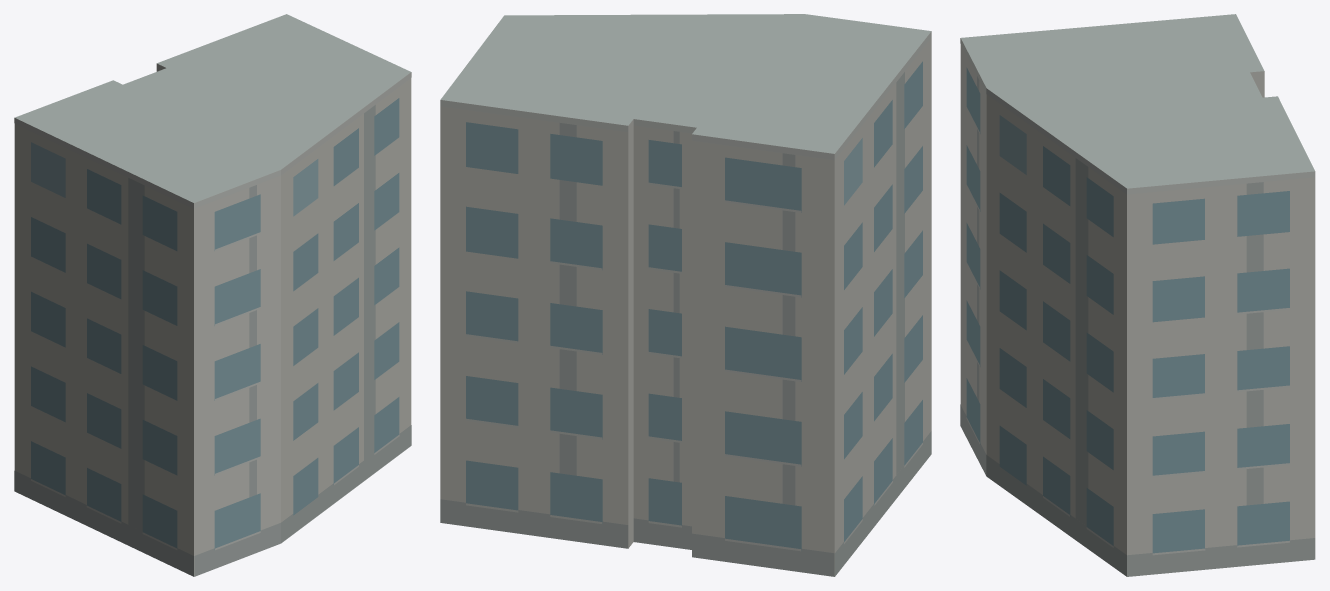
Rendered from survey-upis-32708964.glb.
The picture shows the model from 3 angles, left to right: view 1: azimuth 30°, elevation 25°; view 2: azimuth 150°, elevation 25°; view 3: azimuth 270°, elevation 25°; orthographic projection. The views are drawn at different scales.
Parts seen in each view (by area): view 1: survey-upis-32708964.tmp; view 2: survey-upis-32708964.tmp; view 3: survey-upis-32708964.tmp.
Part boxes in pixels (left/top/right/bottom): survey-upis-32708964.tmp: left=14, top=14, right=411, bottom=576; survey-upis-32708964.tmp: left=440, top=14, right=931, bottom=576; survey-upis-32708964.tmp: left=960, top=14, right=1315, bottom=576.
Bounding box in the file's own units: 15.35 × 15.9 × 13.18.
